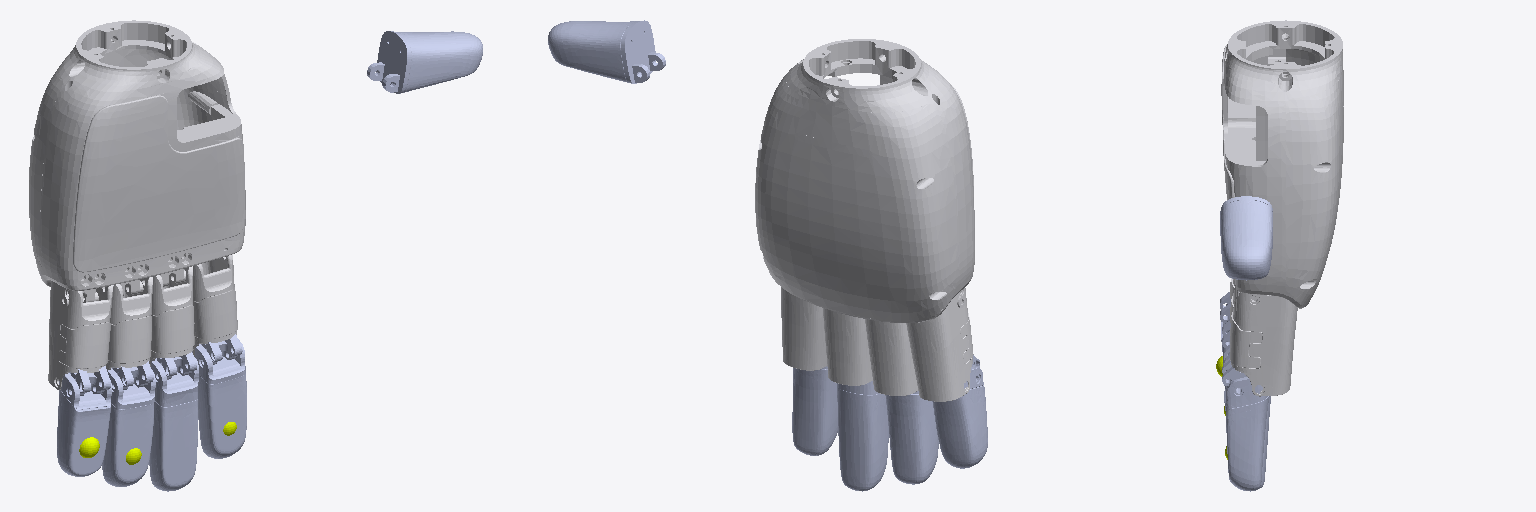
robot.urdf — fourier_left_hand_6dof:
<?xml version="1.0" encoding="utf-8"?>

<!-- 10162024-alpha-1 -->

<robot name="fourier_left_hand_6dof">
  <link
    name="L_hand_base_link">
    <inertial>
      <origin
        xyz="-0.0004466 -0.009158 -0.04325"
        rpy="0 0 0" />
      <mass
        value="0.306" />
      <inertia
        ixx="0.0003042"
        ixy="-5E-07"
        ixz="1E-07"
        iyy="0.0004110"
        iyz="4E-08"
        izz="0.0001951" />
    </inertial>
    <visual>
      <origin
        xyz="0 0 0"
        rpy="0 0 0" />
      <geometry>
        <mesh
          filename="../meshes/fourier_hand_6dof/L_hand_base_link.STL" />
      </geometry>
      <material
        name="">
        <color
          rgba="0.86667 0.86667 0.8902 1" />
      </material>
    </visual>
    <collision>
      <origin
        xyz="0 0 0"
        rpy="0 0 0" />
      <geometry>
        <mesh
          filename="../meshes/fourier_hand_6dof/L_hand_base_link.STL" />
      </geometry>
    </collision>
  </link>
  <!-- <joint
    name="L_hand_base_joint"
    type="fixed">
    <origin
      xyz="0 0 -0.021"
      rpy="0 0 0" />
    <parent
      link="left_end_effector_link" />
    <child
      link="L_hand_base_link" />
    <axis
      xyz="0 0 0" />
  </joint> -->
  <link
    name="L_thumb_proximal_base_link">
    <inertial>
      <origin
        xyz="0.011017 -2.4767E-05 0.00077605"
        rpy="0 0 0" />
      <mass
        value="0.00948527" />
      <inertia
        ixx="3E-07"
        ixy="1E-08"
        ixz="-4E-08"
        iyy="9.5E-07"
        iyz="-1E-08"
        izz="9.7E-07" />
    </inertial>
    <visual>
      <origin
        xyz="0 0 0"
        rpy="0 0 0" />
      <geometry>
        <mesh
          filename="../meshes/fourier_hand_6dof/L_thumb_proximal_base_link.STL" />
      </geometry>
      <material
        name="">
        <color
          rgba="0.8902 0.8902 0.91373 1" />
      </material>
    </visual>
    <collision>
      <origin
        xyz="0 0 0"
        rpy="0 0 0" />
      <geometry>
        <mesh
          filename="../meshes/fourier_hand_6dof/L_thumb_proximal_base_link.STL" />
      </geometry>
    </collision>
  </link>
  <joint
    name="L_thumb_proximal_yaw_joint"
    type="revolute">
    <origin
      xyz="0.022 -0.015498 -0.025093"
      rpy="0 -1.221E-05 0" />
    <parent
      link="L_hand_base_link" />
    <child
      link="L_thumb_proximal_base_link" />
    <axis
      xyz="0 0 1" />
    <limit
      lower="-1.74"
      upper="0"
      effort="10"
      velocity="0.8" />
  </joint>
  <link
    name="L_thumb_proximal_link">
    <inertial>
      <origin
        xyz="0.03196306 -0.00014118 -2.861E-05"
        rpy="0 0 0" />
      <mass
        value="0.07347612" />
      <inertia
        ixx="1.131E-05"
        ixy="1E-07"
        ixz="4E-08"
        iyy="3.183E-05"
        iyz="-1E-08"
        izz="3.376E-05" />
    </inertial>
    <visual>
      <origin
        xyz="0 0 0"
        rpy="0 0 0" />
      <geometry>
        <mesh
          filename="../meshes/fourier_hand_6dof/L_thumb_proximal_link.STL" />
      </geometry>
      <material
        name="">
        <color
          rgba="0.86667 0.86667 0.8902 1" />
      </material>
    </visual>
    <collision>
      <origin
        xyz="0 0 0"
        rpy="0 0 0" />
      <geometry>
        <mesh
          filename="../meshes/fourier_hand_6dof/L_thumb_proximal_link.STL" />
      </geometry>
    </collision>
  </link>
  <joint
    name="L_thumb_proximal_pitch_joint"
    type="revolute">
    <origin
      xyz="0.02175 0 0"
      rpy="-1.5707 0 0" />
    <parent
      link="L_thumb_proximal_base_link" />
    <child
      link="L_thumb_proximal_link" />
    <axis
      xyz="0 0 1" />
    <limit
      lower="0"
      upper="1.22"
      effort="10"
      velocity="0.8" />
  </joint>
  <link
    name="L_thumb_distal_link">
    <inertial>
      <origin
        xyz="0.01321529 -0.00326134 0"
        rpy="0 0 0" />
      <mass
        value="0.02031766" />
      <inertia
        ixx="9.2E-07"
        ixy="-9E-08"
        ixz="0"
        iyy="2.48E-06"
        iyz="0"
        izz="2.34E-06" />
    </inertial>
    <visual>
      <origin
        xyz="0 0 0"
        rpy="0 0 0" />
      <geometry>
        <mesh
          filename="../meshes/fourier_hand_6dof/L_thumb_distal_link.STL" />
      </geometry>
      <material
        name="">
        <color
          rgba="0.79216 0.81961 0.93333 1" />
      </material>
    </visual>
    <collision>
      <origin
        xyz="0 0 0"
        rpy="0 0 0" />
      <geometry>
        <mesh
          filename="../meshes/fourier_hand_6dof/L_thumb_distal_link.STL" />
      </geometry>
    </collision>
  </link>
  <joint
    name="L_thumb_distal_joint"
    type="revolute">
    <origin
      xyz="0.061549 0.0074616 0"
      rpy="0 0 1.221E-05" />
    <parent
      link="L_thumb_proximal_link" />
    <child
      link="L_thumb_distal_link" />
    <axis
      xyz="0 0 1" />
    <limit
      lower="0"
      upper="1.23"
      effort="10"
      velocity="0.8" />
    <mimic
      joint="L_thumb_proximal_pitch_joint"
      multiplier="0.974"
      offset="0" />
  </joint>

  <link name="L_thumb_tip_link">
    <visual>
      <origin
        xyz="0 0 0"
        rpy="0 0 0" />
      <geometry>
        <sphere radius="0.005" />
      </geometry>
      <material name="yellow">
        <color rgba="0.9 1 0 1" />
      </material>
    </visual>
  </link>
  <joint name="L_thumb_tip_joint" type="fixed">
    <parent link="L_thumb_distal_link" />
    <child link="L_thumb_tip_link" />
    <origin rpy="0 0 0" xyz="0.031 -0.001 0" />
  </joint>


  <link
    name="L_index_proximal_link">
    <inertial>
      <origin
        xyz="0.0095993 0.000443 2.96E-06"
        rpy="0 0 0" />
      <mass
        value="0.019117" />
      <inertia
        ixx="8.6E-07"
        ixy="1.2E-07"
        ixz="0"
        iyy="3.71E-06"
        iyz="0"
        izz="3.85E-06" />
    </inertial>
    <visual>
      <origin
        xyz="0 0 0"
        rpy="0 0 0" />
      <geometry>
        <mesh
          filename="../meshes/fourier_hand_6dof/L_index_proximal_link.STL" />
      </geometry>
      <material
        name="">
        <color
          rgba="0.86667 0.86667 0.8902 1" />
      </material>
    </visual>
    <collision>
      <origin
        xyz="0 0 0"
        rpy="0 0 0" />
      <geometry>
        <mesh
          filename="../meshes/fourier_hand_6dof/L_index_proximal_link.STL" />
      </geometry>
    </collision>
  </link>
  <joint
    name="L_index_proximal_joint"
    type="revolute">
    <origin
      xyz="0.026869 -0.012293 -0.095989"
      rpy="0.0013057 1.5184 0.0013039" />
    <parent
      link="L_hand_base_link" />
    <child
      link="L_index_proximal_link" />
    <axis
      xyz="0 0 1" />
    <limit
      lower="-1.57"
      upper="0"
      effort="10"
      velocity="0.8" />
  </joint>
  <link
    name="L_index_intermediate_link">
    <inertial>
      <origin
        xyz="0.01800421 0.00300042 -9.23E-06"
        rpy="0 0 0" />
      <mass
        value="0.01292544" />
      <inertia
        ixx="3.7E-07"
        ixy="2.5E-07"
        ixz="0"
        iyy="2.01E-06"
        iyz="0"
        izz="2.04E-06" />
    </inertial>
    <visual>
      <origin
        xyz="0 0 0"
        rpy="0 0 0" />
      <geometry>
        <mesh
          filename="../meshes/fourier_hand_6dof/L_index_intermediate_link.STL" />
      </geometry>
      <material
        name="">
        <color
          rgba="0.79216 0.81961 0.93333 1" />
      </material>
    </visual>
    <collision>
      <origin
        xyz="0 0 0"
        rpy="0 0 0" />
      <geometry>
        <mesh
          filename="../meshes/fourier_hand_6dof/L_index_intermediate_link.STL" />
      </geometry>
    </collision>
  </link>
  <joint
    name="L_index_intermediate_joint"
    type="revolute">
    <origin
      xyz="0.031532 -0.0054551 0"
      rpy="0 0 -6.8256E-05" />
    <parent
      link="L_index_proximal_link" />
    <child
      link="L_index_intermediate_link" />
    <axis
      xyz="0 0 1" />
    <limit
      lower="-1.74"
      upper="0"
      effort="10"
      velocity="0.8" />
    <mimic
      joint="L_index_proximal_joint"
      multiplier="1.128"
      offset="0" />
  </joint>

  <link name="L_index_tip_link">
    <visual>
      <origin
        xyz="0 0 0"
        rpy="0 0 0" />
      <geometry>
        <sphere radius="0.005" />
      </geometry>
      <material name="yellow">
        <color rgba="0.9 1 0 1" />
      </material>
    </visual>
  </link>
  <joint name="L_index_tip_joint" type="fixed">
    <parent link="L_index_intermediate_link" />
    <child link="L_index_tip_link" />
    <origin rpy="0 0 0" xyz="0.038 -0.0015 0" />
  </joint>


  <link
    name="L_middle_proximal_link">
    <inertial>
      <origin
        xyz="0.00955708 0.00071862 2.96E-06"
        rpy="0 0 0" />
      <mass
        value="0.01911771" />
      <inertia
        ixx="8.6E-07"
        ixy="6E-08"
        ixz="0"
        iyy="3.72E-06"
        iyz="0"
        izz="3.85E-06" />
    </inertial>
    <visual>
      <origin
        xyz="0 0 0"
        rpy="0 0 0" />
      <geometry>
        <mesh
          filename="../meshes/fourier_hand_6dof/L_middle_proximal_link.STL" />
      </geometry>
      <material
        name="">
        <color
          rgba="0.8902 0.8902 0.91373 1" />
      </material>
    </visual>
    <collision>
      <origin
        xyz="0 0 0"
        rpy="0 0 0" />
      <geometry>
        <mesh
          filename="../meshes/fourier_hand_6dof/L_middle_proximal_link.STL" />
      </geometry>
    </collision>
  </link>
  <joint
    name="L_middle_proximal_joint"
    type="revolute">
    <origin
      xyz="0.0085012 -0.012293 -0.097993"
      rpy="1.394 1.5707 1.394" />
    <parent
      link="L_hand_base_link" />
    <child
      link="L_middle_proximal_link" />
    <axis
      xyz="0 0 1" />
    <limit
      lower="-1.57"
      upper="0"
      effort="10"
      velocity="0.8" />
  </joint>
  <link
    name="L_middle_intermediate_link">
    <inertial>
      <origin
        xyz="0.02127931 0.00408456 -9.98E-06"
        rpy="0 0 0" />
      <mass
        value="0.01535007" />
      <inertia
        ixx="4.1E-07"
        ixy="2.2E-07"
        ixz="0"
        iyy="3.28E-06"
        iyz="0"
        izz="3.29E-06" />
    </inertial>
    <visual>
      <origin
        xyz="0 0 0"
        rpy="0 0 0" />
      <geometry>
        <mesh
          filename="../meshes/fourier_hand_6dof/L_middle_intermediate_link.STL" />
      </geometry>
      <material
        name="">
        <color
          rgba="0.79216 0.81961 0.93333 1" />
      </material>
    </visual>
    <collision>
      <origin
        xyz="0 0 0"
        rpy="0 0 0" />
      <geometry>
        <mesh
          filename="../meshes/fourier_hand_6dof/L_middle_intermediate_link.STL" />
      </geometry>
    </collision>
  </link>
  <joint
    name="L_middle_intermediate_joint"
    type="revolute">
    <origin
      xyz="0.031662 -0.0046408 0"
      rpy="0 0 -6.835E-05" />
    <parent
      link="L_middle_proximal_link" />
    <child
      link="L_middle_intermediate_link" />
    <axis
      xyz="0 0 1" />
    <limit
      lower="-1.74"
      upper="0"
      effort="10"
      velocity="0.8" />
    <mimic
      joint="L_middle_proximal_joint"
      multiplier="1.131"
      offset="0" />
  </joint>

  <link name="L_middle_tip_link">
    <visual>
      <origin
        xyz="0 0 0"
        rpy="0 0 0" />
      <geometry>
        <sphere radius="0.005" />
      </geometry>
      <material name="yellow">
        <color rgba="0.9 1 0 1" />
      </material>
    </visual>
  </link>
  <joint name="L_middle_tip_joint" type="fixed">
    <parent link="L_middle_intermediate_link" />
    <child link="L_middle_tip_link" />
    <origin rpy="0 0 0" xyz="0.045 0.0005 0" />
  </joint>


  <link
    name="L_ring_proximal_link">
    <inertial>
      <origin
        xyz="0.00959983 0.0004431 2.96E-06"
        rpy="0 0 0" />
      <mass
        value="0.01911771" />
      <inertia
        ixx="8.6E-07"
        ixy="1.2E-07"
        ixz="0"
        iyy="3.71E-06"
        iyz="0"
        izz="3.85E-06" />
    </inertial>
    <visual>
      <origin
        xyz="0 0 0"
        rpy="0 0 0" />
      <geometry>
        <mesh
          filename="../meshes/fourier_hand_6dof/L_ring_proximal_link.STL" />
      </geometry>
      <material
        name="">
        <color
          rgba="0.8902 0.8902 0.91373 1" />
      </material>
    </visual>
    <collision>
      <origin
        xyz="0 0 0"
        rpy="0 0 0" />
      <geometry>
        <mesh
          filename="../meshes/fourier_hand_6dof/L_ring_proximal_link.STL" />
      </geometry>
    </collision>
  </link>
  <joint
    name="L_ring_proximal_joint"
    type="revolute">
    <origin
      xyz="-0.00996 -0.012293 -0.097938"
      rpy="3.1403 1.5184 3.1403" />
    <parent
      link="L_hand_base_link" />
    <child
      link="L_ring_proximal_link" />
    <axis
      xyz="0 0 1" />
    <limit
      lower="-1.57"
      upper="0"
      effort="10"
      velocity="0.8" />
  </joint>
  <link
    name="L_ring_intermediate_link">
    <inertial>
      <origin
        xyz="0.01800421 0.00300042 -9.23E-06"
        rpy="0 0 0" />
      <mass
        value="0.01292544" />
      <inertia
        ixx="3.7E-07"
        ixy="2.5E-07"
        ixz="0"
        iyy="2.01E-06"
        iyz="0"
        izz="2.04E-06" />
    </inertial>
    <visual>
      <origin
        xyz="0 0 0"
        rpy="0 0 0" />
      <geometry>
        <mesh
          filename="../meshes/fourier_hand_6dof/L_ring_intermediate_link.STL" />
      </geometry>
      <material
        name="">
        <color
          rgba="0.79216 0.81961 0.93333 1" />
      </material>
    </visual>
    <collision>
      <origin
        xyz="0 0 0"
        rpy="0 0 0" />
      <geometry>
        <mesh
          filename="../meshes/fourier_hand_6dof/L_ring_intermediate_link.STL" />
      </geometry>
    </collision>
  </link>
  <joint
    name="L_ring_intermediate_joint"
    type="revolute">
    <origin
      xyz="0.031532 -0.0054551 0"
      rpy="0 0 -6.8256E-05" />
    <parent
      link="L_ring_proximal_link" />
    <child
      link="L_ring_intermediate_link" />
    <axis
      xyz="0 0 1" />
    <limit
      lower="-1.74"
      upper="0"
      effort="10"
      velocity="0.8" />
    <mimic
      joint="L_ring_proximal_joint"
      multiplier="1.143"
      offset="0" />
  </joint>

  <link name="L_ring_tip_link">
    <visual>
      <origin
        xyz="0 0 0"
        rpy="0 0 0" />
      <geometry>
        <sphere radius="0.005" />
      </geometry>
      <material name="green">
        <color rgba="0.9 1 0 1" />
      </material>
    </visual>
  </link>
  <joint name="L_ring_tip_joint" type="fixed">
    <parent link="L_ring_intermediate_link" />
    <child link="L_ring_tip_link" />
    <origin rpy="0 0 0" xyz="0.038 -0.002 0" />
  </joint>


  <link
    name="L_pinky_proximal_link">
    <inertial>
      <origin
        xyz="0.00964414 9.378E-05 2.96E-06"
        rpy="0 0 0" />
      <mass
        value="0.01911771" />
      <inertia
        ixx="8.8E-07"
        ixy="2E-07"
        ixz="0"
        iyy="3.7E-06"
        iyz="0"
        izz="3.85E-06" />
    </inertial>
    <visual>
      <origin
        xyz="0 0 0"
        rpy="0 0 0" />
      <geometry>
        <mesh
          filename="../meshes/fourier_hand_6dof/L_pinky_proximal_link.STL" />
      </geometry>
      <material
        name="">
        <color
          rgba="0.8902 0.8902 0.91373 1" />
      </material>
    </visual>
    <collision>
      <origin
        xyz="0 0 0"
        rpy="0 0 0" />
      <geometry>
        <mesh
          filename="../meshes/fourier_hand_6dof/L_pinky_proximal_link.STL" />
      </geometry>
    </collision>
  </link>
  <joint
    name="L_pinky_proximal_joint"
    type="revolute">
    <origin
      xyz="-0.028227 -0.012293 -0.096013"
      rpy="3.1409 1.4661 3.1409" />
    <parent
      link="L_hand_base_link" />
    <child
      link="L_pinky_proximal_link" />
    <axis
      xyz="0 0 1" />
    <limit
      lower="-1.57"
      upper="0"
      effort="10"
      velocity="0.8" />
  </joint>
  <link
    name="L_pinky_intermediate_link">
    <inertial>
      <origin
        xyz="0.01609604 0.00118817 -8.72E-06"
        rpy="0 0 0" />
      <mass
        value="0.00568707" />
      <inertia
        ixx="1.7E-07"
        ixy="1.3E-07"
        ixz="0"
        iyy="6.2E-07"
        iyz="0"
        izz="6.7E-07" />
    </inertial>
    <visual>
      <origin
        xyz="0 0 0"
        rpy="0 0 0" />
      <geometry>
        <mesh
          filename="../meshes/fourier_hand_6dof/L_pinky_intermediate_link.STL" />
      </geometry>
      <material
        name="">
        <color
          rgba="0.79216 0.81961 0.93333 1" />
      </material>
    </visual>
    <collision>
      <origin
        xyz="0 0 0"
        rpy="0 0 0" />
      <geometry>
        <mesh
          filename="../meshes/fourier_hand_6dof/L_pinky_intermediate_link.STL" />
      </geometry>
    </collision>
  </link>
  <joint
    name="L_pinky_intermediate_joint"
    type="revolute">
    <origin
      xyz="0.031338 -0.0064763 0"
      rpy="0 0 -6.7976E-05" />
    <parent
      link="L_pinky_proximal_link" />
    <child
      link="L_pinky_intermediate_link" />
    <axis
      xyz="0 0 1" />
    <limit
      lower="-1.74"
      upper="0"
      effort="10"
      velocity="0.8" />
    <mimic
      joint="L_pinky_proximal_joint"
      multiplier="1.129"
      offset="0" />
  </joint>

  <link name="L_pinky_tip_link">
    <visual>
      <origin
        xyz="0 0 0"
        rpy="0 0 0" />
      <geometry>
        <sphere radius="0.005" />
      </geometry>
      <material name="yellow">
        <color rgba="0.9 1 0 1" />
      </material>
    </visual>
  </link>
  <joint name="L_pinky_tip_joint" type="fixed">
    <parent link="L_pinky_intermediate_link" />
    <child link="L_pinky_tip_link" />
    <origin rpy="0 0 0" xyz="0.031 -0.0040 0" />
  </joint>

</robot>

--- Facts derived from the render (not from the file) ---
3 views of the same robot in one strip: view 1: azimuth 30°, elevation 25°; view 2: azimuth 150°, elevation 25°; view 3: azimuth 270°, elevation 25° (orthographic).
Model fourier_left_hand_6dof with 17 links and 16 joints (11 revolute, 5 fixed), rooted at L_hand_base_link, posed every joint at zero.
Visible links, largest first — view 1: L_hand_base_link, L_middle_intermediate_link, L_thumb_distal_link, L_index_intermediate_link, L_pinky_proximal_link, L_ring_intermediate_link, L_pinky_intermediate_link, L_index_proximal_link, L_ring_proximal_link, L_middle_proximal_link; view 2: L_hand_base_link, L_thumb_distal_link, L_pinky_proximal_link, L_middle_intermediate_link, L_ring_intermediate_link, L_pinky_intermediate_link, L_index_intermediate_link, L_ring_proximal_link, L_middle_proximal_link, L_index_proximal_link; view 3: L_hand_base_link, L_index_proximal_link, L_index_intermediate_link, L_thumb_distal_link.
Boxes of the visible links, x1,y1,x2,y2 form: L_hand_base_link: (29, 20, 245, 306); L_middle_intermediate_link: (149, 352, 198, 491); L_thumb_distal_link: (367, 31, 482, 93); L_index_intermediate_link: (192, 334, 246, 458); L_pinky_proximal_link: (48, 281, 113, 389); L_ring_intermediate_link: (102, 361, 155, 486); L_pinky_intermediate_link: (57, 366, 111, 476); L_index_proximal_link: (193, 254, 237, 356); L_ring_proximal_link: (106, 277, 152, 370); L_middle_proximal_link: (149, 266, 194, 366); L_hand_base_link: (755, 39, 974, 322); L_thumb_distal_link: (548, 20, 665, 83); L_pinky_proximal_link: (906, 288, 973, 401); L_middle_intermediate_link: (837, 381, 888, 491); L_ring_intermediate_link: (885, 391, 938, 484); L_pinky_intermediate_link: (932, 355, 987, 468); L_index_intermediate_link: (792, 366, 837, 455); L_ring_proximal_link: (865, 319, 917, 395); L_middle_proximal_link: (823, 308, 872, 385); L_index_proximal_link: (781, 287, 826, 370); L_hand_base_link: (1221, 20, 1343, 308); L_index_proximal_link: (1230, 291, 1297, 396); L_index_intermediate_link: (1222, 360, 1269, 491); L_thumb_distal_link: (1220, 196, 1272, 280).
Size in the robot's own frame: 0.1932 by 0.0511 by 0.1909 metres.
10 mesh visuals loaded from 12 distinct referenced files (10 binary STL); not drawn: 2 (reference not matched to a file when rendering).